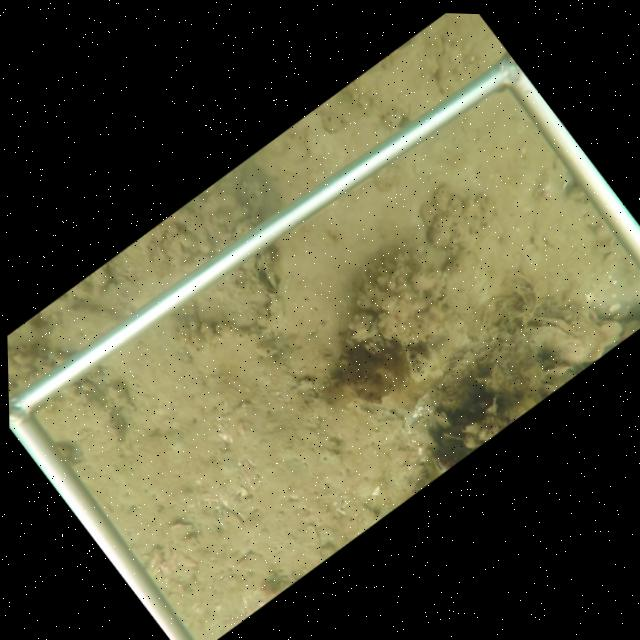Oyster-Closed: (596, 316, 624, 337), (363, 314, 380, 340)
Oyster-Open: (519, 314, 584, 346), (248, 250, 284, 297), (428, 452, 451, 475)
